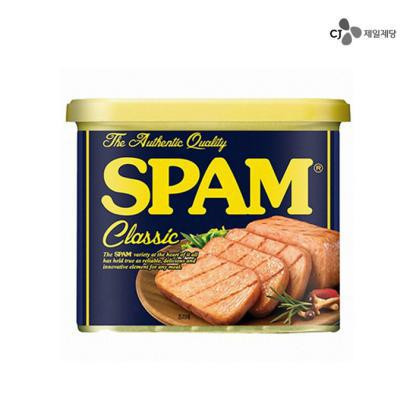spam: (64, 89, 345, 334)
